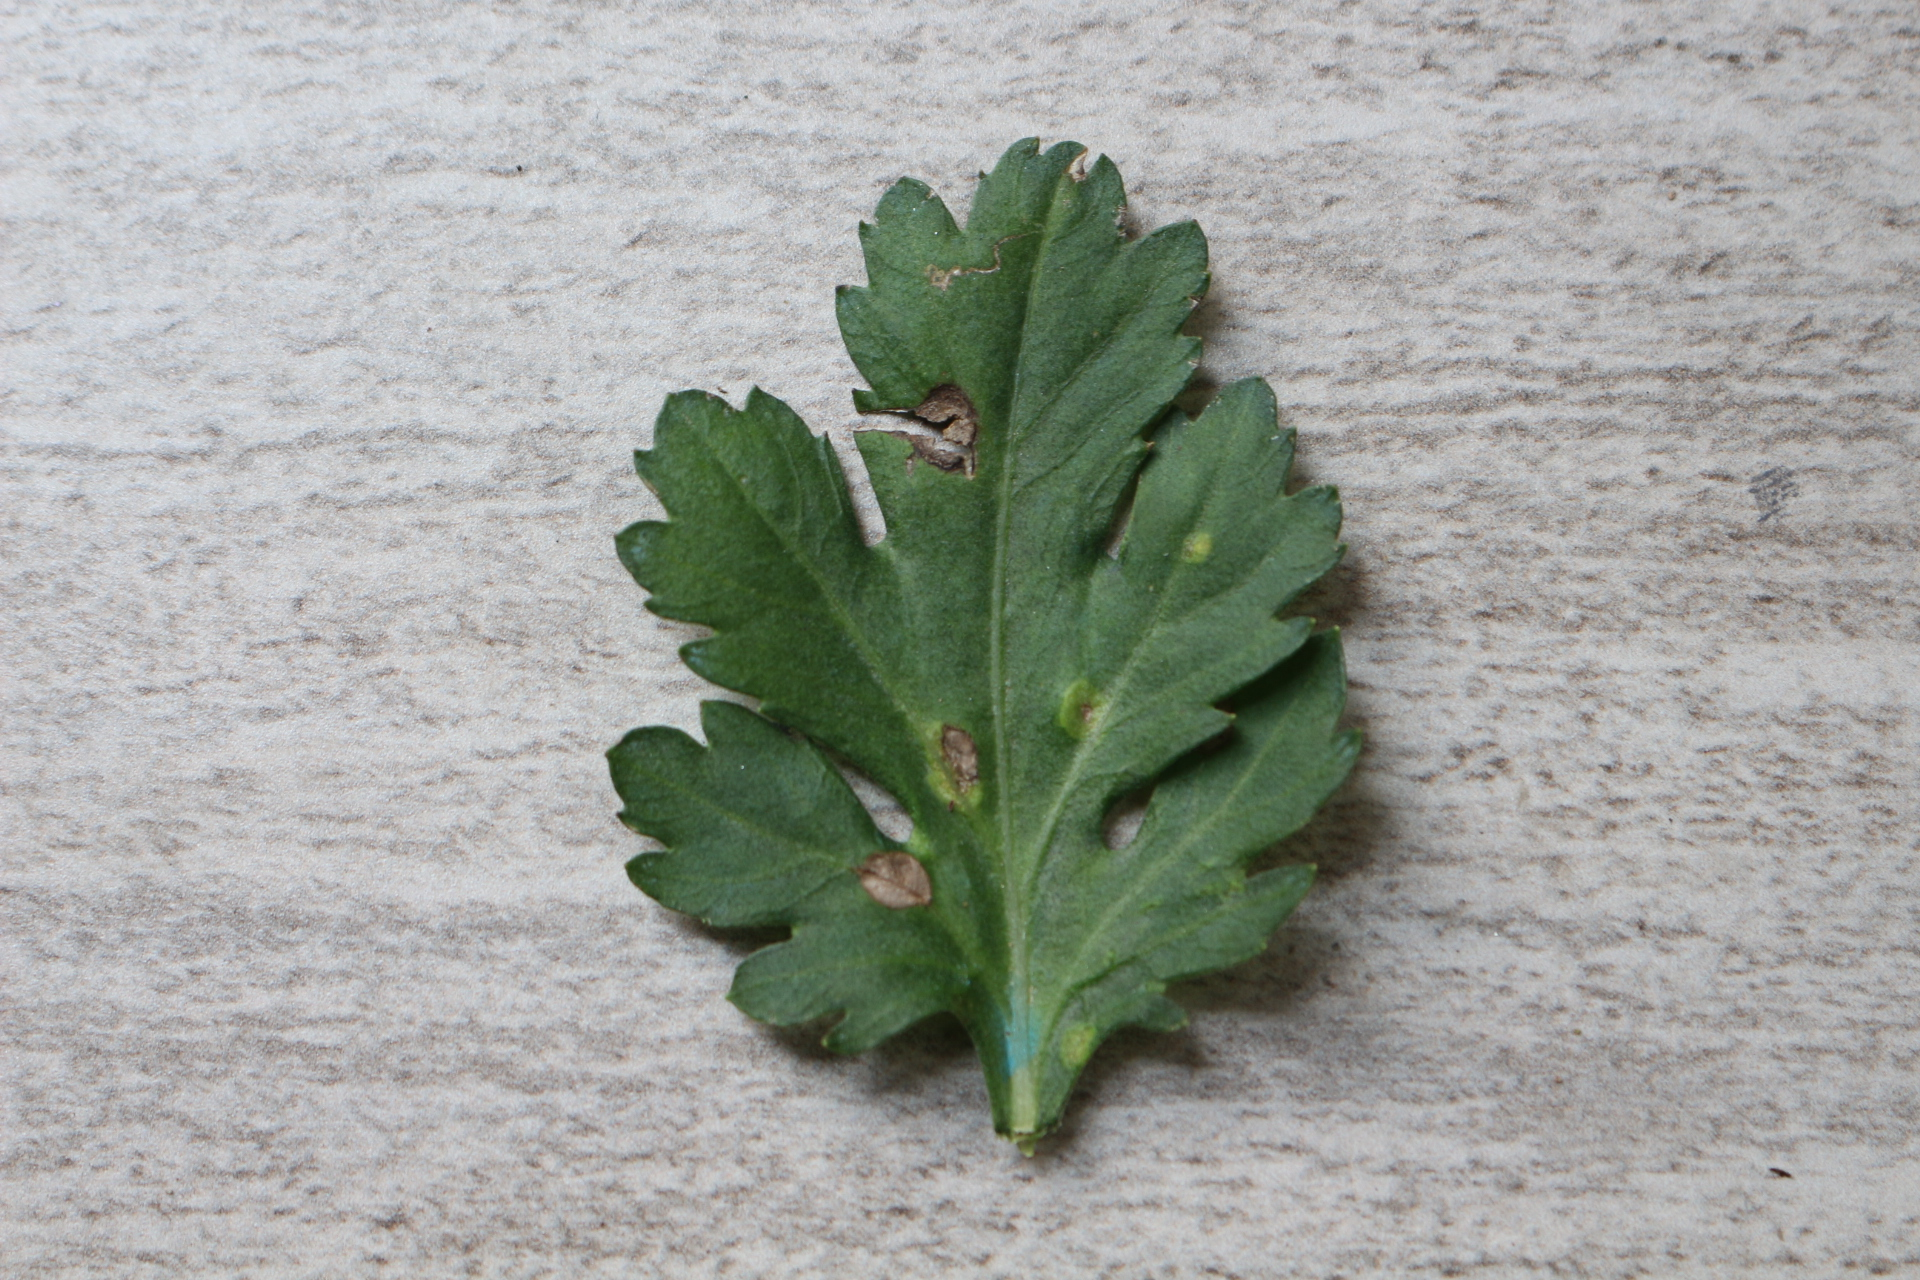namden: (924, 717, 994, 813), (830, 849, 939, 910)
namsung: (1054, 677, 1119, 751), (1054, 1016, 1109, 1074), (1180, 524, 1220, 570)
